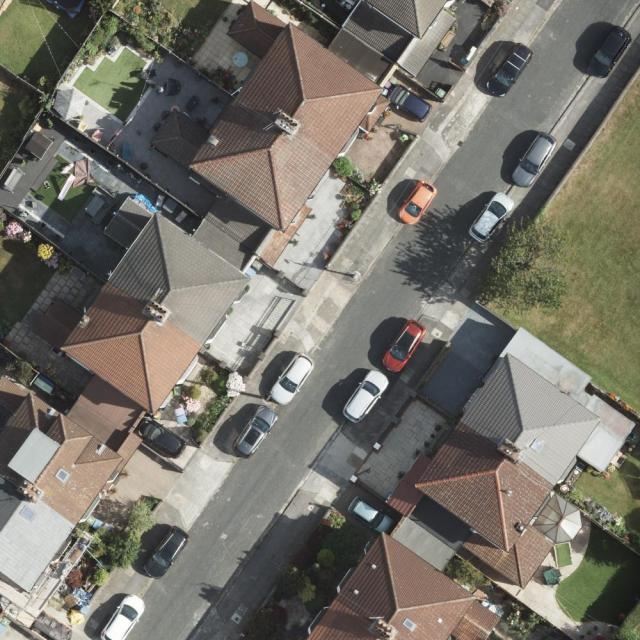roof: (0, 0, 449, 592), (305, 329, 635, 640)
skylight: (18, 505, 36, 524), (527, 435, 545, 454), (51, 468, 70, 483), (400, 617, 418, 632)
